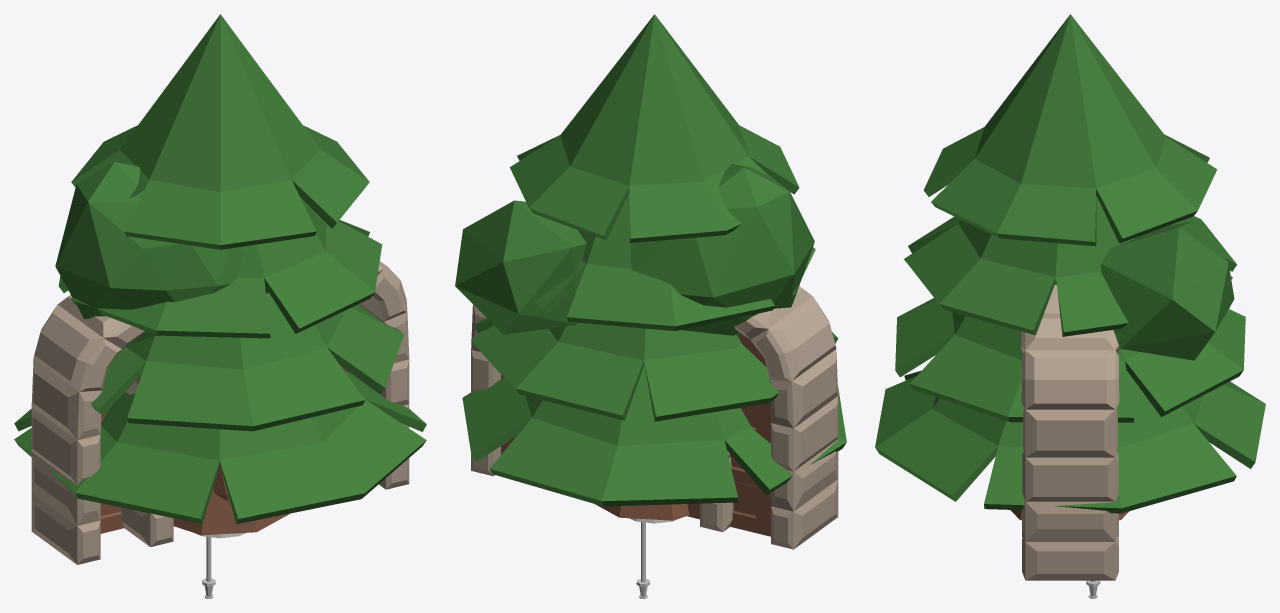
Rendered from FirefighterScenarioProps.fbx.
The picture shows the model from 3 angles, left to right: view 1: azimuth 30°, elevation 25°; view 2: azimuth 150°, elevation 25°; view 3: azimuth 270°, elevation 25°; orthographic projection. The views are drawn at different scales.
Visible parts, largest first — view 1: Circle.003, Border.003, Cube.002, Border.002, Door.002; view 2: Circle.003, Cube.002, Border.003, Door.002, Border.002; view 3: Circle.003, Border.003, Cube.002.
Part boxes in pixels (bbox=[...]): Circle.003: bbox=[14, 14, 426, 535]; Border.003: bbox=[31, 261, 409, 564]; Cube.002: bbox=[55, 162, 268, 501]; Border.002: bbox=[121, 374, 173, 546]; Door.002: bbox=[100, 408, 124, 533]; Circle.003: bbox=[462, 14, 846, 520]; Cube.002: bbox=[455, 163, 814, 335]; Border.003: bbox=[471, 286, 838, 549]; Door.002: bbox=[687, 333, 770, 536]; Border.002: bbox=[700, 451, 733, 532]; Circle.003: bbox=[875, 14, 1265, 520]; Border.003: bbox=[1021, 284, 1119, 580]; Cube.002: bbox=[1055, 221, 1234, 360].
Size of the model in its own units: 4314 by 7100 by 4314.
